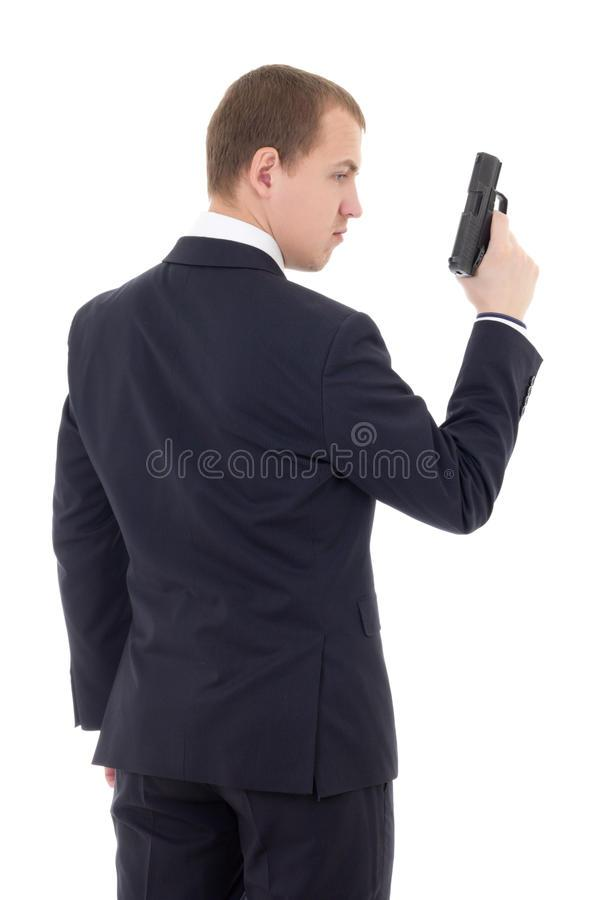criminal: (51, 60, 546, 900)
weapon: (447, 142, 514, 279)
